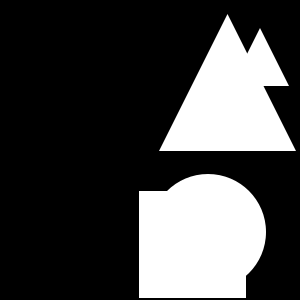circle: (139, 191, 246, 298)
rectangle: (150, 174, 266, 290)
triangle: (159, 14, 296, 151), (231, 28, 289, 86)
